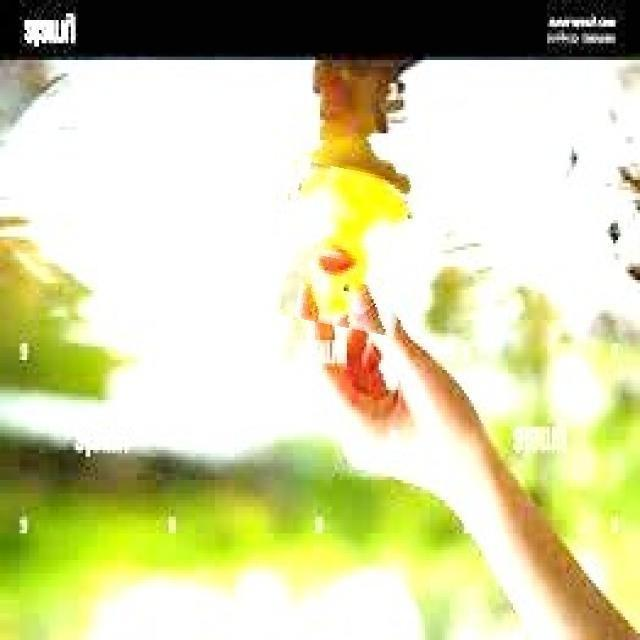rubber-duck: (279, 165, 407, 337)
